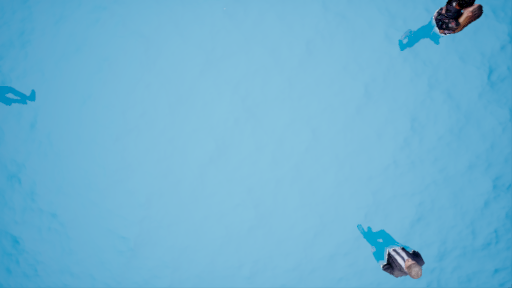person: (356, 221, 430, 282), (401, 1, 485, 52)
